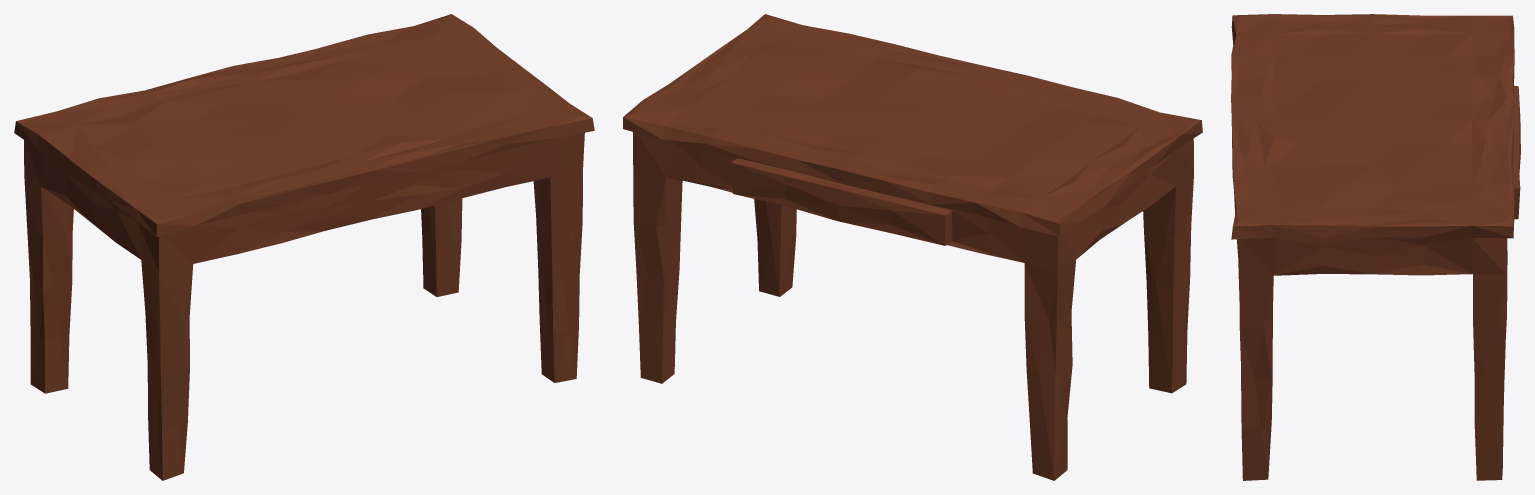
Rendered from kitchen_table.fbx.
3 renders of one model, left to right at view 1: azimuth 30°, elevation 25°; view 2: azimuth 150°, elevation 25°; view 3: azimuth 270°, elevation 25°, orthographic.
Visible parts, largest first — view 1: kitchen_table; view 2: kitchen_table; view 3: kitchen_table.
Part boxes in pixels (bbox=[...]): kitchen_table: bbox=[14, 14, 594, 480]; kitchen_table: bbox=[623, 14, 1202, 480]; kitchen_table: bbox=[1231, 14, 1520, 480].
Bounding box in the file's own units: 131 × 75.6 × 75.63.
